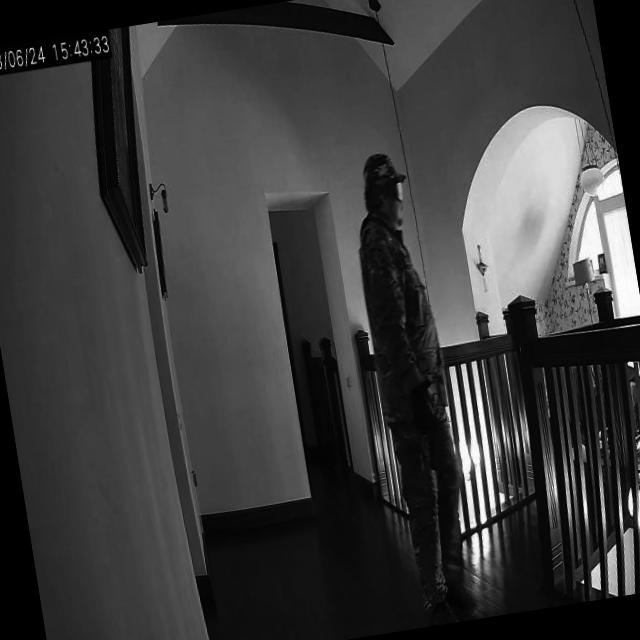person: (342, 146, 484, 629)
